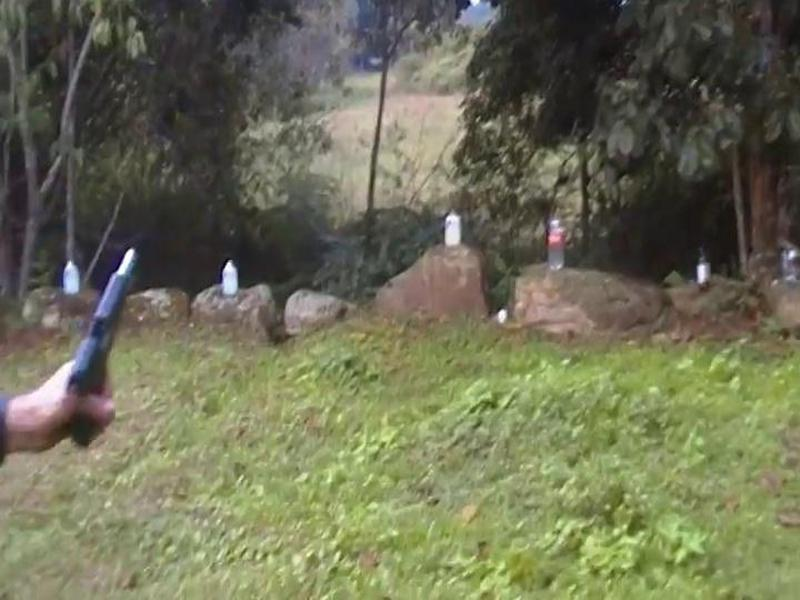Pistola: (28, 237, 156, 440)
